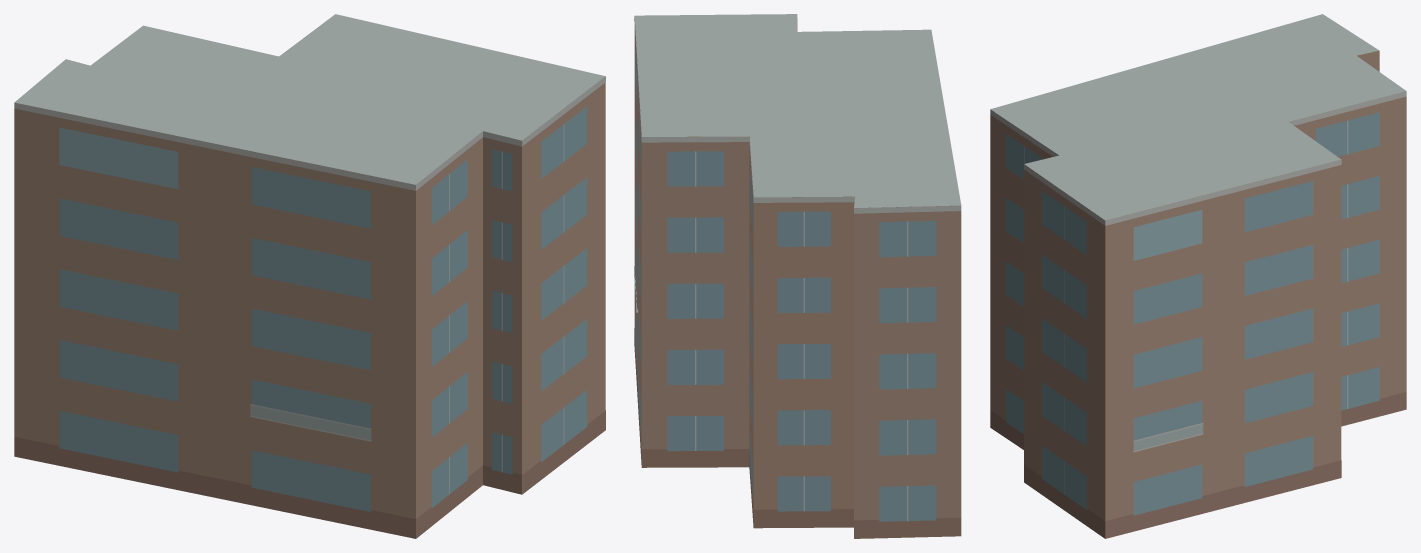
File: survey-upis-32574980.glb
3 views of the same model, side by side, from view 1: azimuth 30°, elevation 25°; view 2: azimuth 150°, elevation 25°; view 3: azimuth 270°, elevation 25° (orthographic). The views are drawn at different scales.
Visible parts, largest first — view 1: survey-upis-32574980.tmp; view 2: survey-upis-32574980.tmp; view 3: survey-upis-32574980.tmp.
Part boxes in pixels (box(x1,y1,x2,y2)): survey-upis-32574980.tmp: box(14, 14, 605, 538); survey-upis-32574980.tmp: box(634, 14, 961, 538); survey-upis-32574980.tmp: box(990, 14, 1406, 538).
Bounding box in the file's own units: 20.18 × 14.5 × 17.2.
